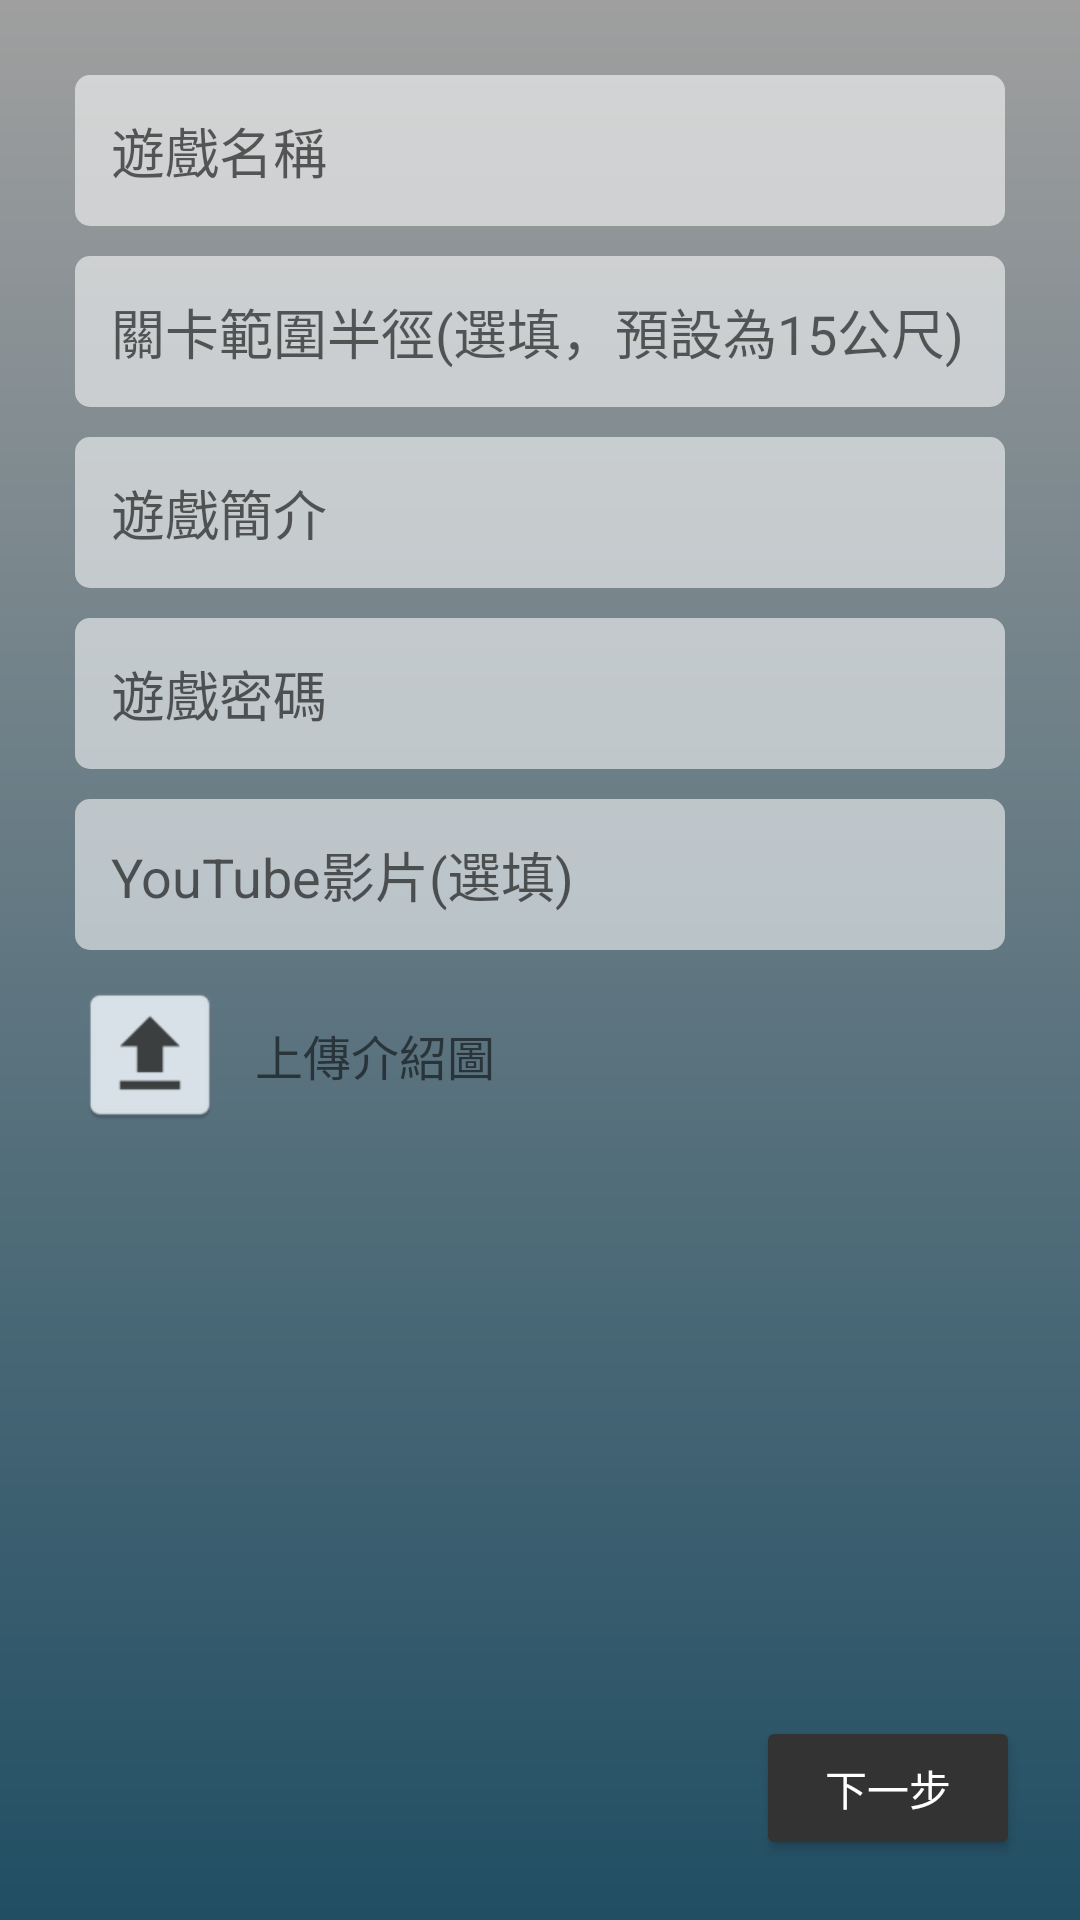

Point at icon controls on the screen. Image size 1080x1920, points as [x,y].
upload: [150,1055]
